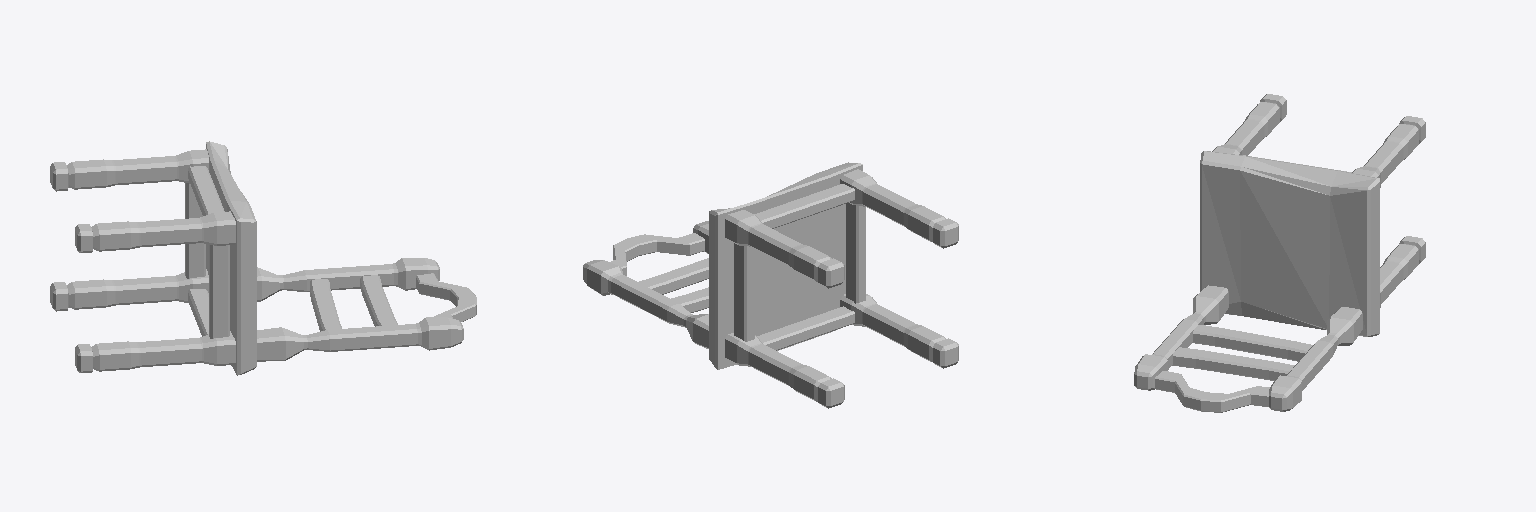
Rendered from prisonChair.obj.
The picture shows the model from 3 angles: view 1: azimuth 30°, elevation 25°; view 2: azimuth 150°, elevation 25°; view 3: azimuth 270°, elevation 25°; orthographic projection.
Parts seen in each view (by area): view 1: prisonChair; view 2: prisonChair; view 3: prisonChair.
Part boxes in pixels (x1,y1,x2,y2): prisonChair: (50,141,476,375); prisonChair: (583,162,958,408); prisonChair: (1134,94,1425,412).
Bounding box in the file's own units: 6.92 × 2.81 × 4.73.